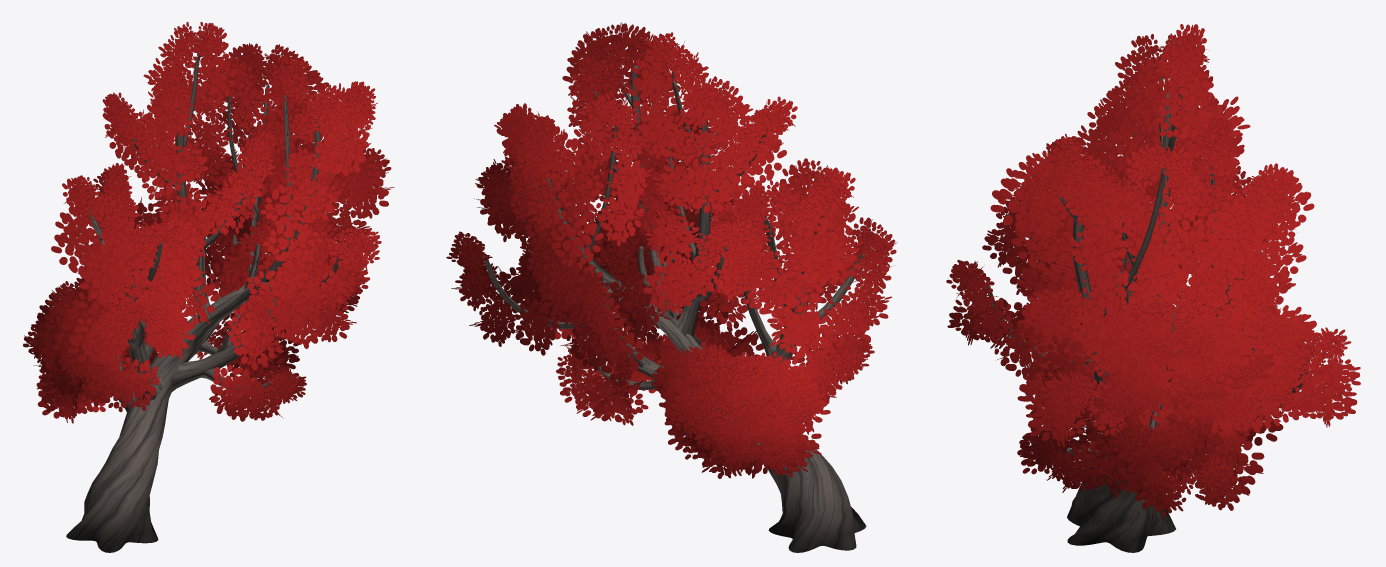
Rendered from TwistedTree_1.gltf.
3 renders of one model, left to right at view 1: azimuth 30°, elevation 25°; view 2: azimuth 150°, elevation 25°; view 3: azimuth 270°, elevation 25°, orthographic. The views are drawn at different scales.
Visible parts, largest first — view 1: TwistedTree_1; view 2: TwistedTree_1; view 3: TwistedTree_1.
Boxes of the visible parts, <box> form: TwistedTree_1: <box>23,22,394,552</box>; TwistedTree_1: <box>446,22,897,552</box>; TwistedTree_1: <box>946,24,1360,552</box>.
Size of the model in its own units: 13.52 by 16.73 by 11.55.
Materials: 2 (2 with a texture image).
